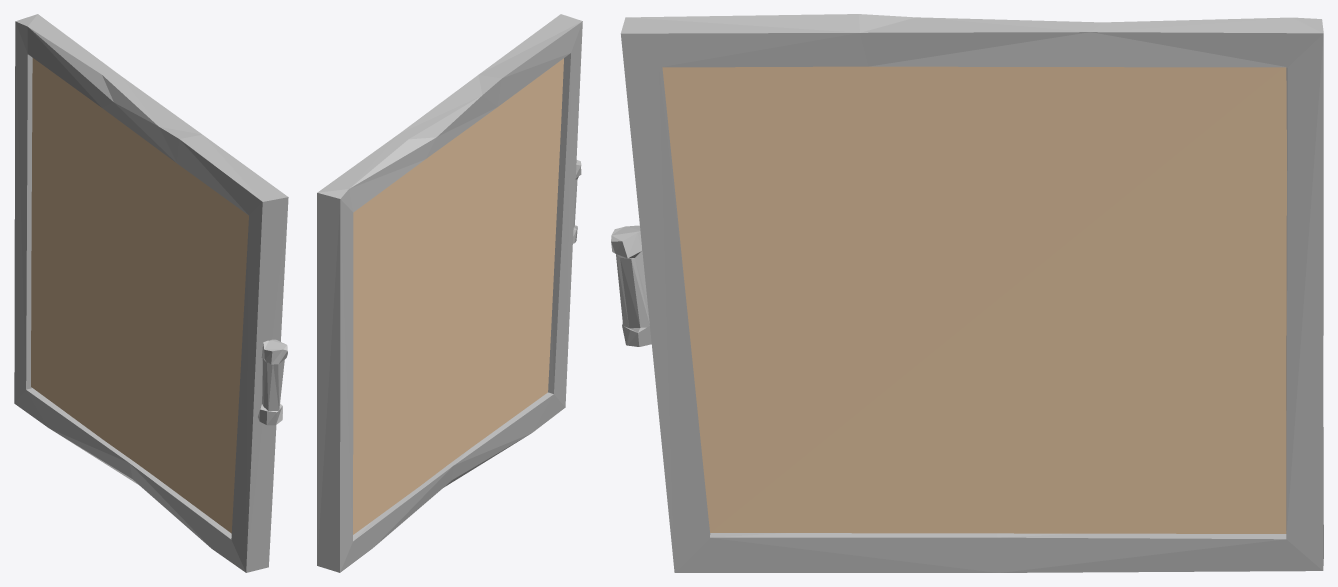
The model's file is SFI_Shelving_Door.fbx.
The picture shows the model from 3 angles, left to right: view 1: azimuth 30°, elevation 25°; view 2: azimuth 150°, elevation 25°; view 3: azimuth 270°, elevation 25°; orthographic projection. The views are drawn at different scales.
Parts seen in each view (by area): view 1: SFI_Shelving_Door; view 2: SFI_Shelving_Door; view 3: SFI_Shelving_Door.
Boxes of the visible parts, box(x1,y1,x2,y2) form: SFI_Shelving_Door: box(14, 14, 288, 572); SFI_Shelving_Door: box(317, 14, 582, 572); SFI_Shelving_Door: box(611, 14, 1323, 572).
Bounding box in the file's own units: 3.45 × 47.39 × 56.35.
